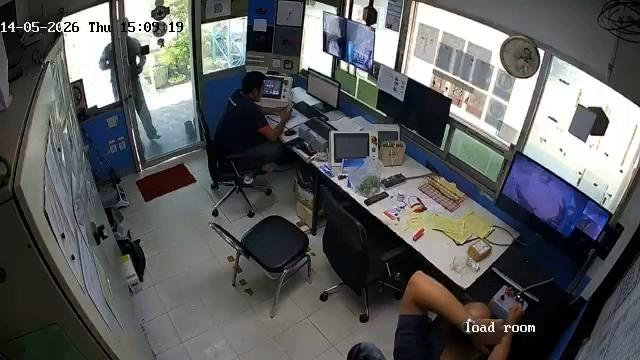Head: (461, 294, 492, 332), (238, 73, 267, 103)
People: (395, 268, 523, 360), (216, 71, 292, 177)
Phone: (284, 102, 295, 113)
